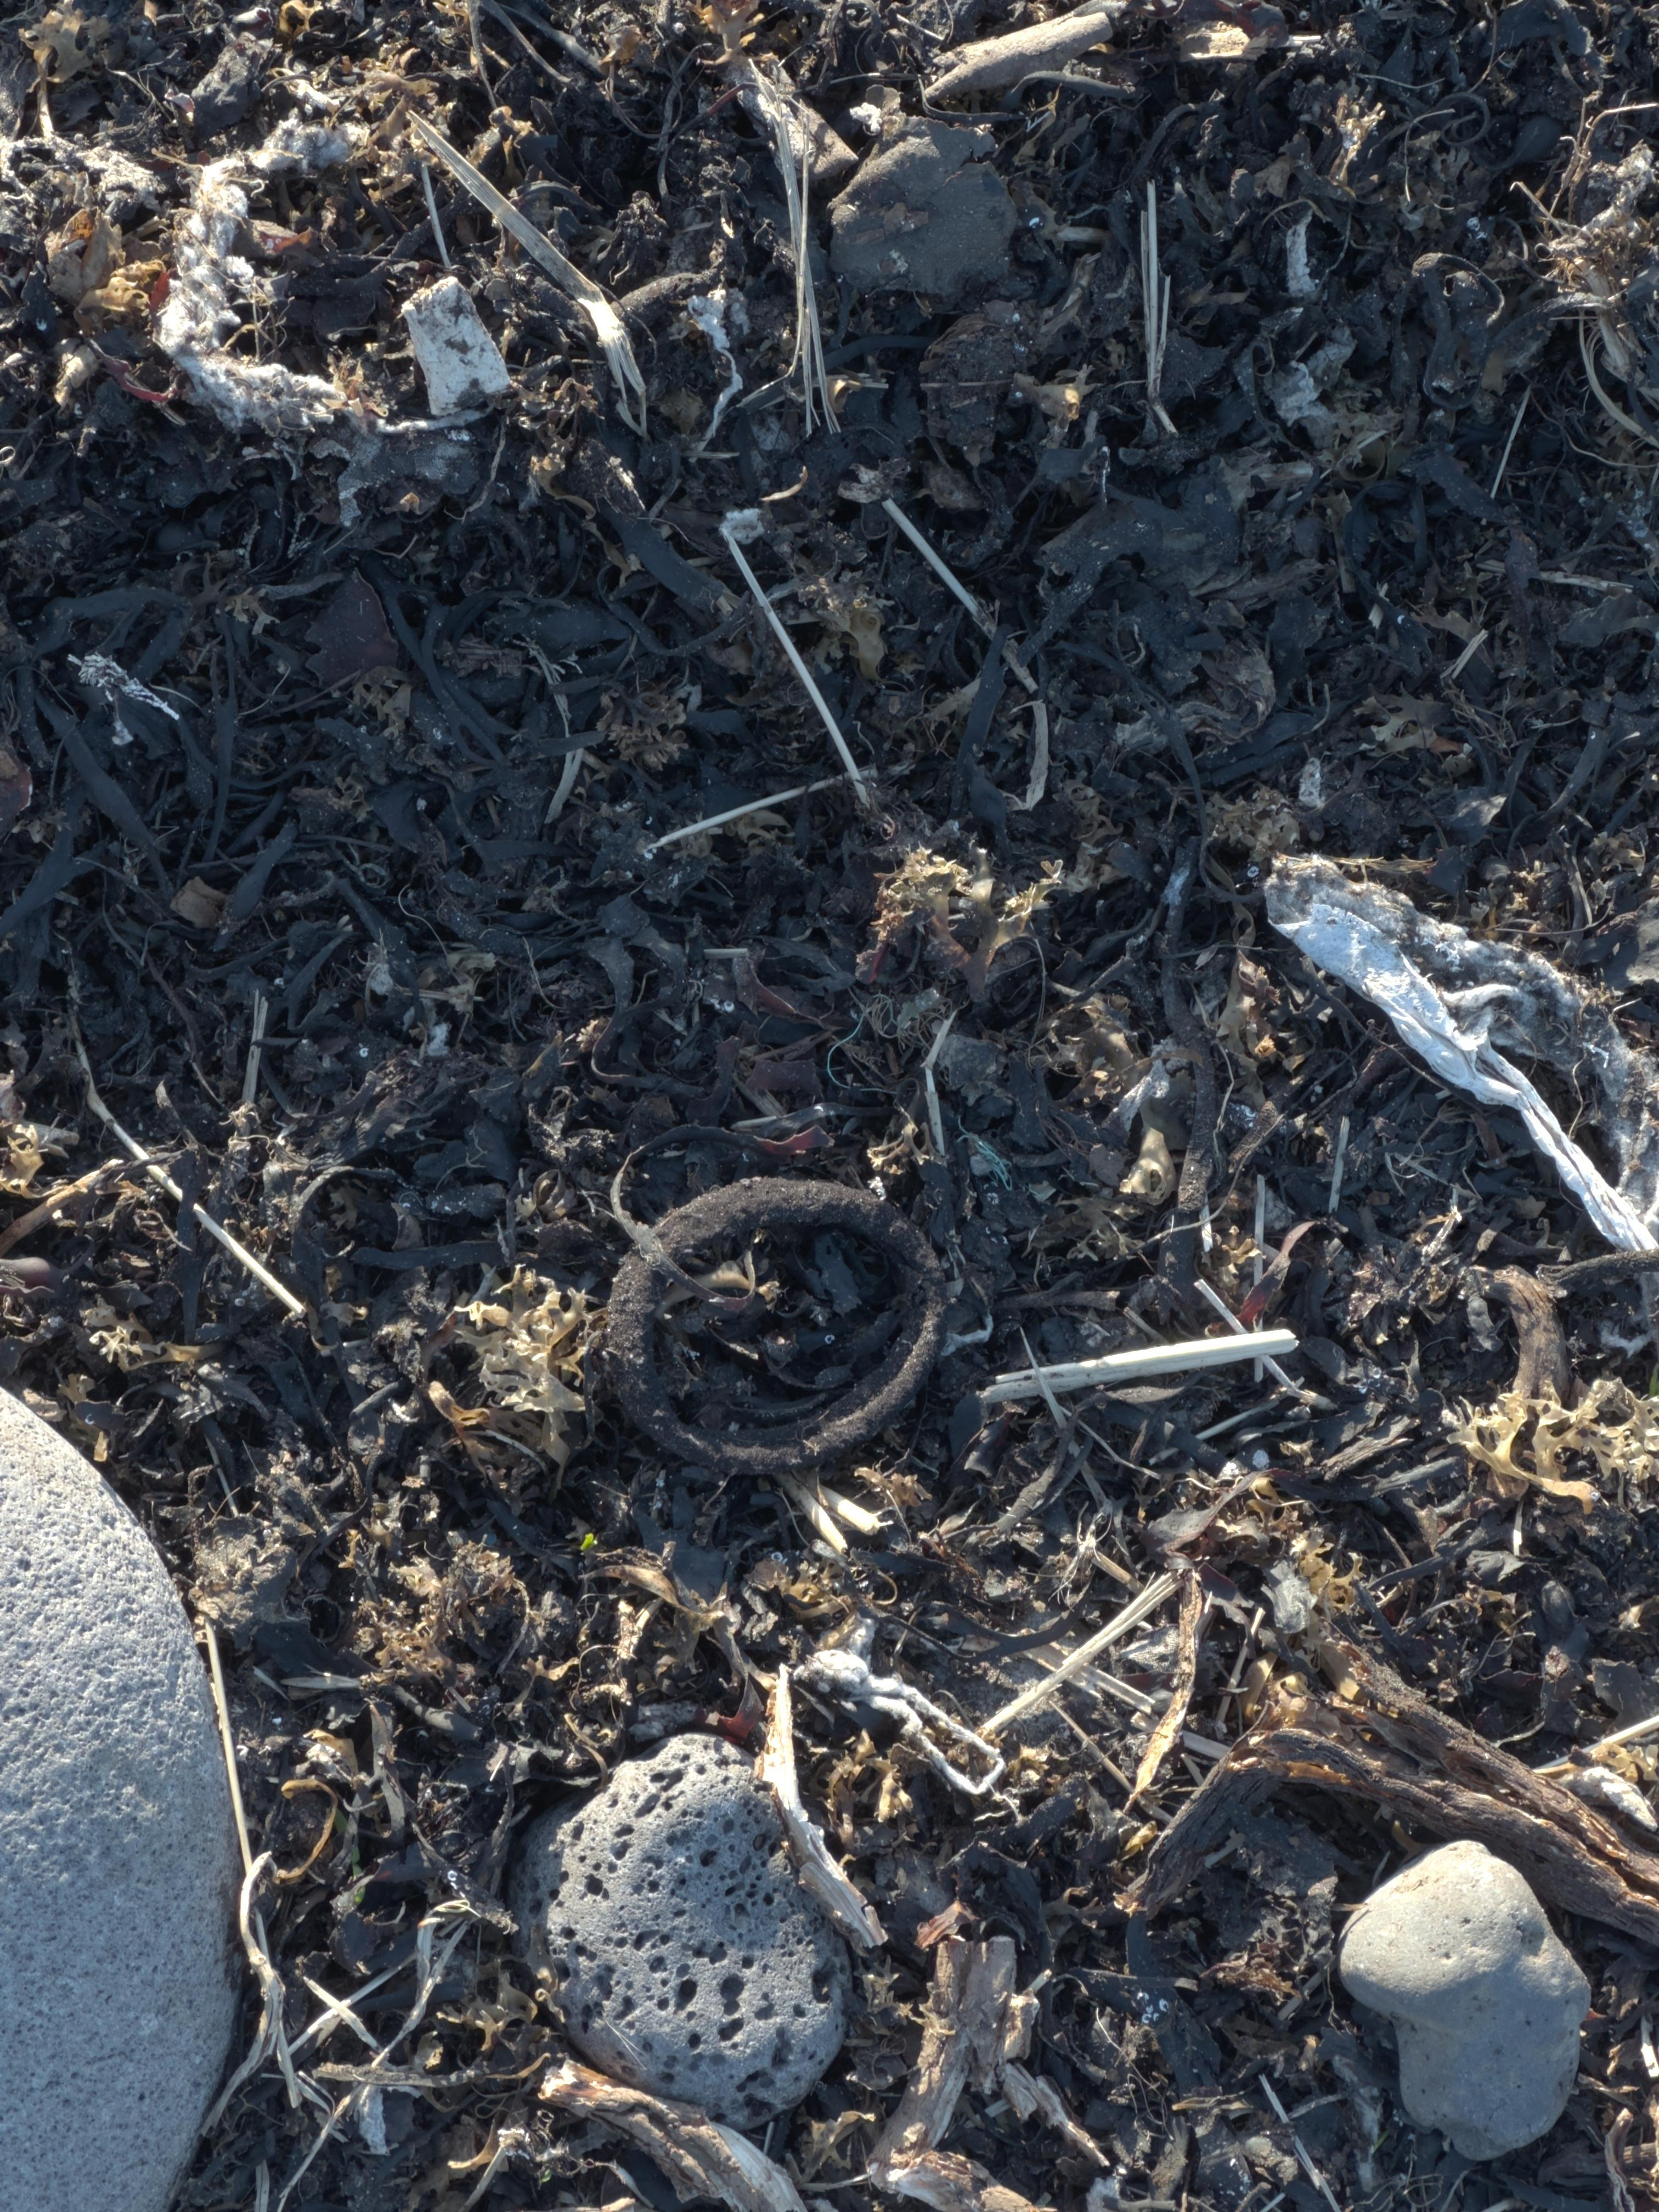trash: (1265, 855, 1659, 1249), (155, 117, 511, 437), (605, 1179, 950, 1474)
